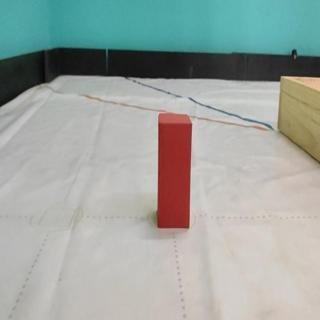redbox: (155, 111, 193, 228)
